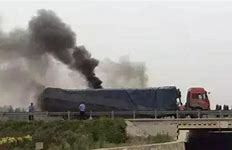smoke: (16, 9, 101, 86)
